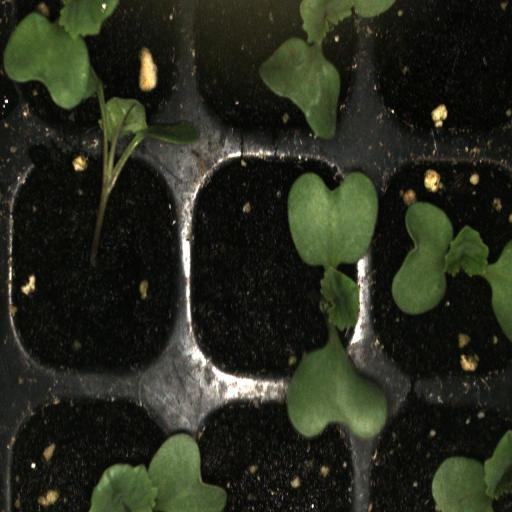Folha: (0, 0, 120, 110), (431, 430, 512, 512), (99, 97, 199, 159)
Germinacao: (2, 68, 181, 387), (186, 146, 370, 384), (371, 143, 512, 383), (185, 0, 372, 146)
